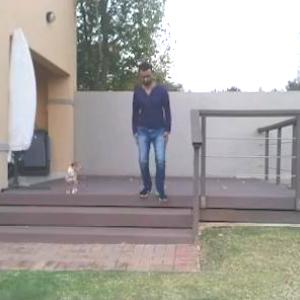follow: (138, 62, 173, 204)
